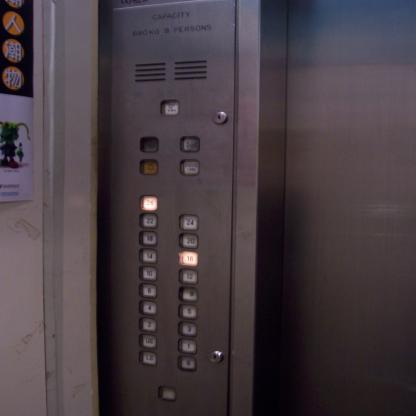1: (178, 337, 196, 354)
10: (139, 264, 157, 280)
12: (178, 268, 199, 284)
14: (139, 247, 158, 264)
16: (178, 250, 199, 266)
18: (138, 230, 158, 246)
2: (139, 316, 158, 332)
20: (179, 232, 198, 248)
22: (138, 212, 158, 228)
24: (178, 214, 199, 230)
26: (138, 194, 158, 210)
3: (178, 321, 198, 337)
4: (139, 299, 158, 316)
5: (178, 304, 198, 319)
8: (139, 282, 158, 298), (178, 286, 198, 301)
G: (178, 354, 197, 370)
LG: (139, 349, 157, 366)
UG: (139, 333, 157, 349)
alarm: (138, 158, 160, 176)
blur: (138, 136, 159, 153)
close: (179, 135, 200, 152)
empty: (158, 384, 177, 402)
keyhole: (211, 111, 228, 124), (209, 350, 223, 363)
text_blur: (178, 158, 200, 176), (159, 98, 180, 115)
